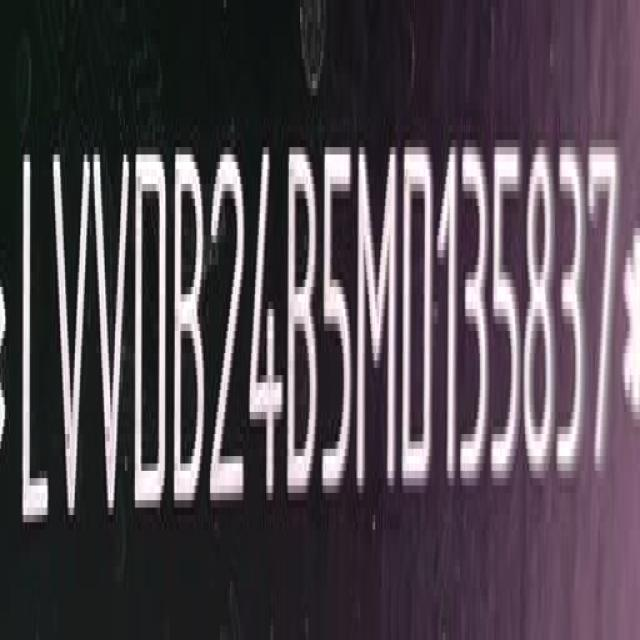1: (438, 139, 461, 507)
3: (458, 125, 492, 504), (555, 131, 589, 485)
4: (249, 120, 285, 515)
5: (322, 128, 356, 509), (488, 126, 520, 490)
7: (586, 131, 620, 496)
8: (523, 139, 555, 474)
B: (210, 139, 247, 523), (288, 136, 322, 537), (173, 142, 207, 534)
D: (401, 122, 437, 515), (131, 150, 168, 518)
L: (21, 134, 52, 536)
M: (356, 128, 399, 520)
V: (53, 144, 94, 537), (90, 133, 131, 518)
